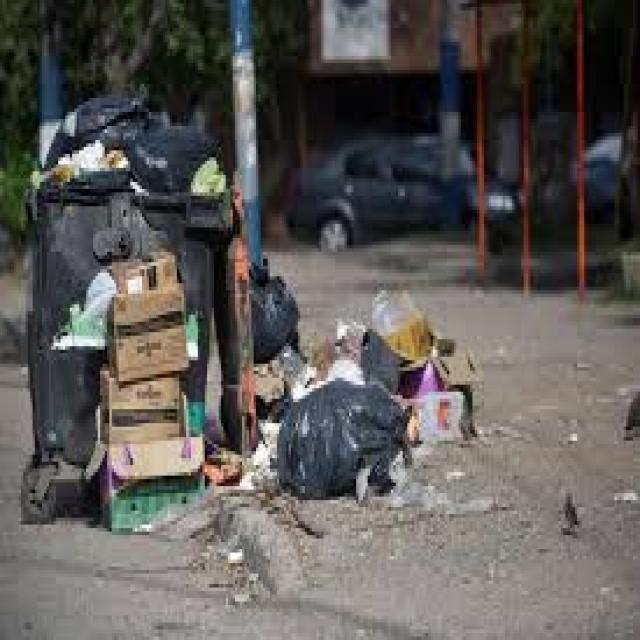garbage: (45, 247, 206, 547), (15, 80, 238, 214), (354, 284, 480, 451), (268, 376, 416, 510), (247, 251, 303, 364)
